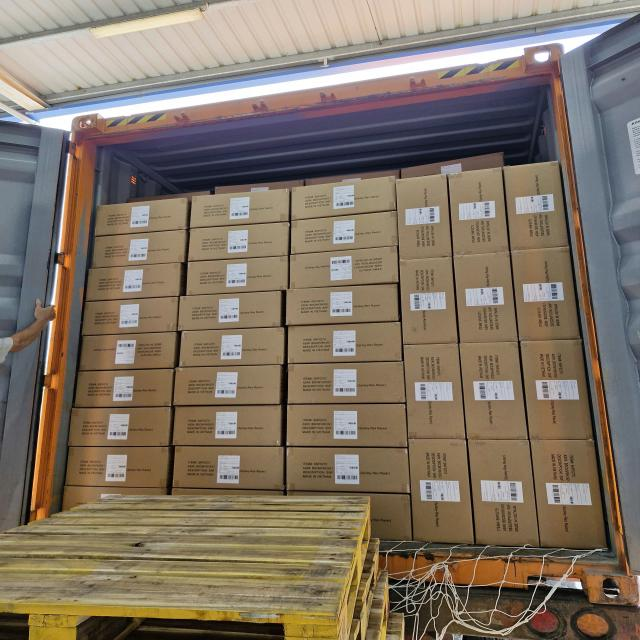Carton: (535, 438, 602, 549), (472, 439, 535, 548), (525, 338, 592, 439), (410, 438, 471, 544), (516, 246, 582, 340), (462, 340, 524, 438), (290, 446, 411, 494), (406, 343, 464, 439), (457, 254, 517, 346), (288, 405, 408, 450), (290, 360, 409, 402), (452, 167, 508, 256), (510, 165, 567, 252), (400, 256, 456, 344), (176, 448, 284, 493), (288, 325, 403, 367), (289, 283, 404, 324), (174, 405, 282, 448), (172, 362, 282, 404), (292, 248, 402, 290), (398, 175, 450, 260), (65, 444, 170, 486), (292, 179, 396, 220), (292, 211, 398, 251), (71, 407, 174, 448), (179, 329, 285, 368), (178, 290, 282, 328), (76, 368, 176, 407), (80, 333, 180, 372), (188, 223, 290, 260), (86, 264, 185, 302), (81, 298, 179, 336), (187, 260, 288, 296), (192, 192, 292, 228), (92, 229, 186, 265), (95, 199, 188, 235)
